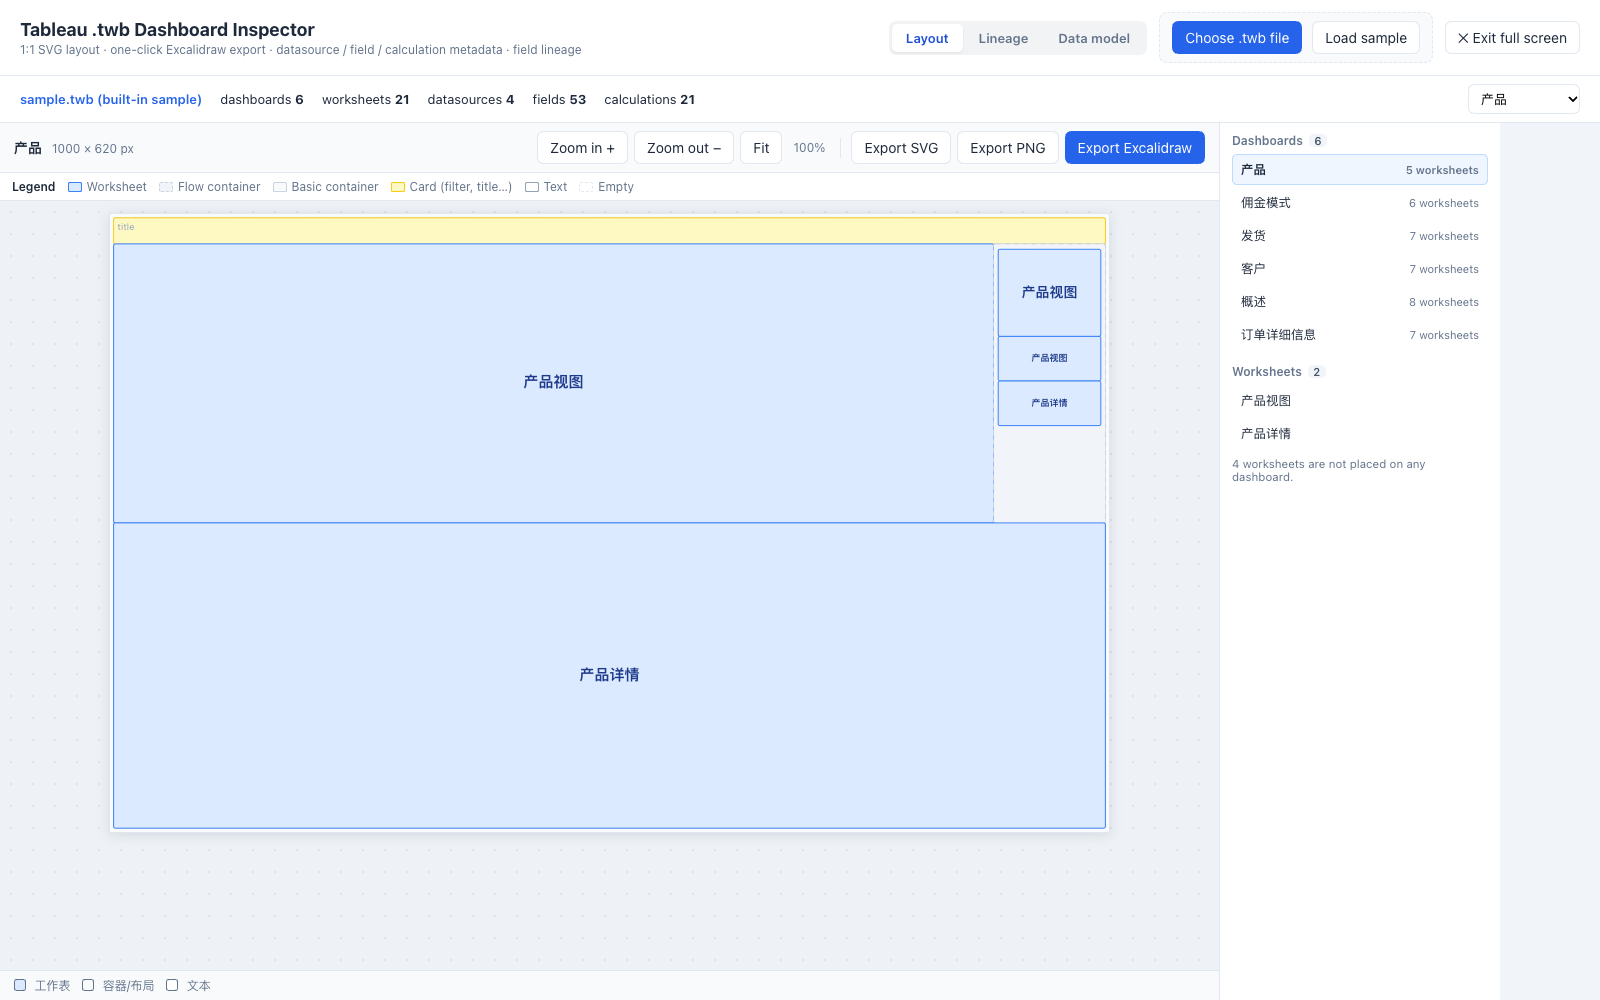

The page's visual inventory and layout, read from the dashboard file:
{"tool":"tableau","page":{"name":"产品","canvas":[1000,1000],"units":"permille","ordinal":0},"visuals":[{"type":"title","box":[4.1,7.7,991.8,42]},{"type":"worksheet","title":"产品视图","mark":"Square","rows":["类别","订单日期"],"cols":["订单日期"],"box":[4.1,49.8,879.9,450]},{"type":"filter","title":"产品视图","param":"[federated.10nnk8d1vgmw8q17yu76u06pnbcj].[none:区域:nk]","box":[888.6,58.6,102.6,140.5]},{"type":"legend","title":"产品视图","param":"[federated.10nnk8d1vgmw8q17yu76u06pnbcj].[sum:销售额:qk]","box":[888.6,199.1,102.6,71.9]},{"type":"legend","title":"产品详情","param":"[federated.10nnk8d1vgmw8q17yu76u06pnbcj].[usr:Calculation_9921103144103743:qk]","box":[888.6,271,102.6,71.9]},{"type":"worksheet","title":"产品详情","mark":"Circle","rows":["类别","子类别"],"cols":["细分","销售额"],"box":[4.1,499.8,991.8,492.5]}]}

Visuals, with their boxes on the dashboard's canvas, which has no fixed pixel size, in thousandths of its width and height (x1, y1, x2, y2). These are canvas units, not pixel positions in the 1600x1000 screenshot, which may show the page scaled, cropped or inside an application window:
title: l=4, t=8, r=996, b=50
"产品视图" worksheet (Square marks): l=4, t=50, r=884, b=500
"产品视图" filter: l=889, t=59, r=991, b=199
"产品视图" legend: l=889, t=199, r=991, b=271
"产品详情" legend: l=889, t=271, r=991, b=343
"产品详情" worksheet (Circle marks): l=4, t=500, r=996, b=992
